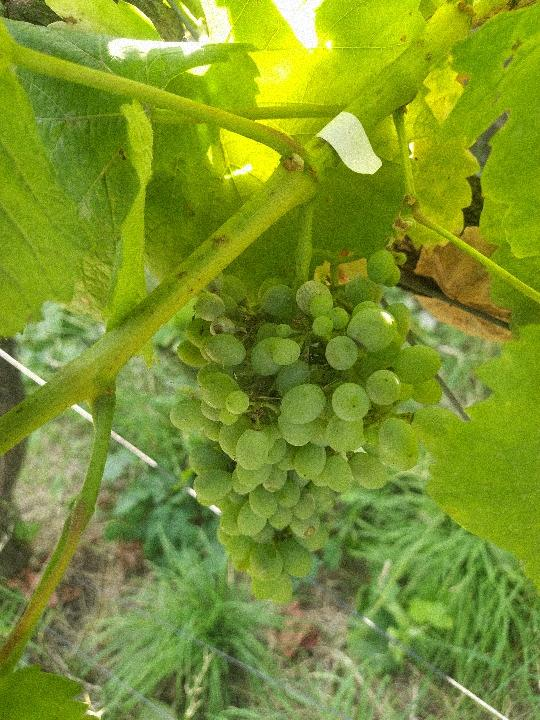grape: (163, 247, 462, 613)
